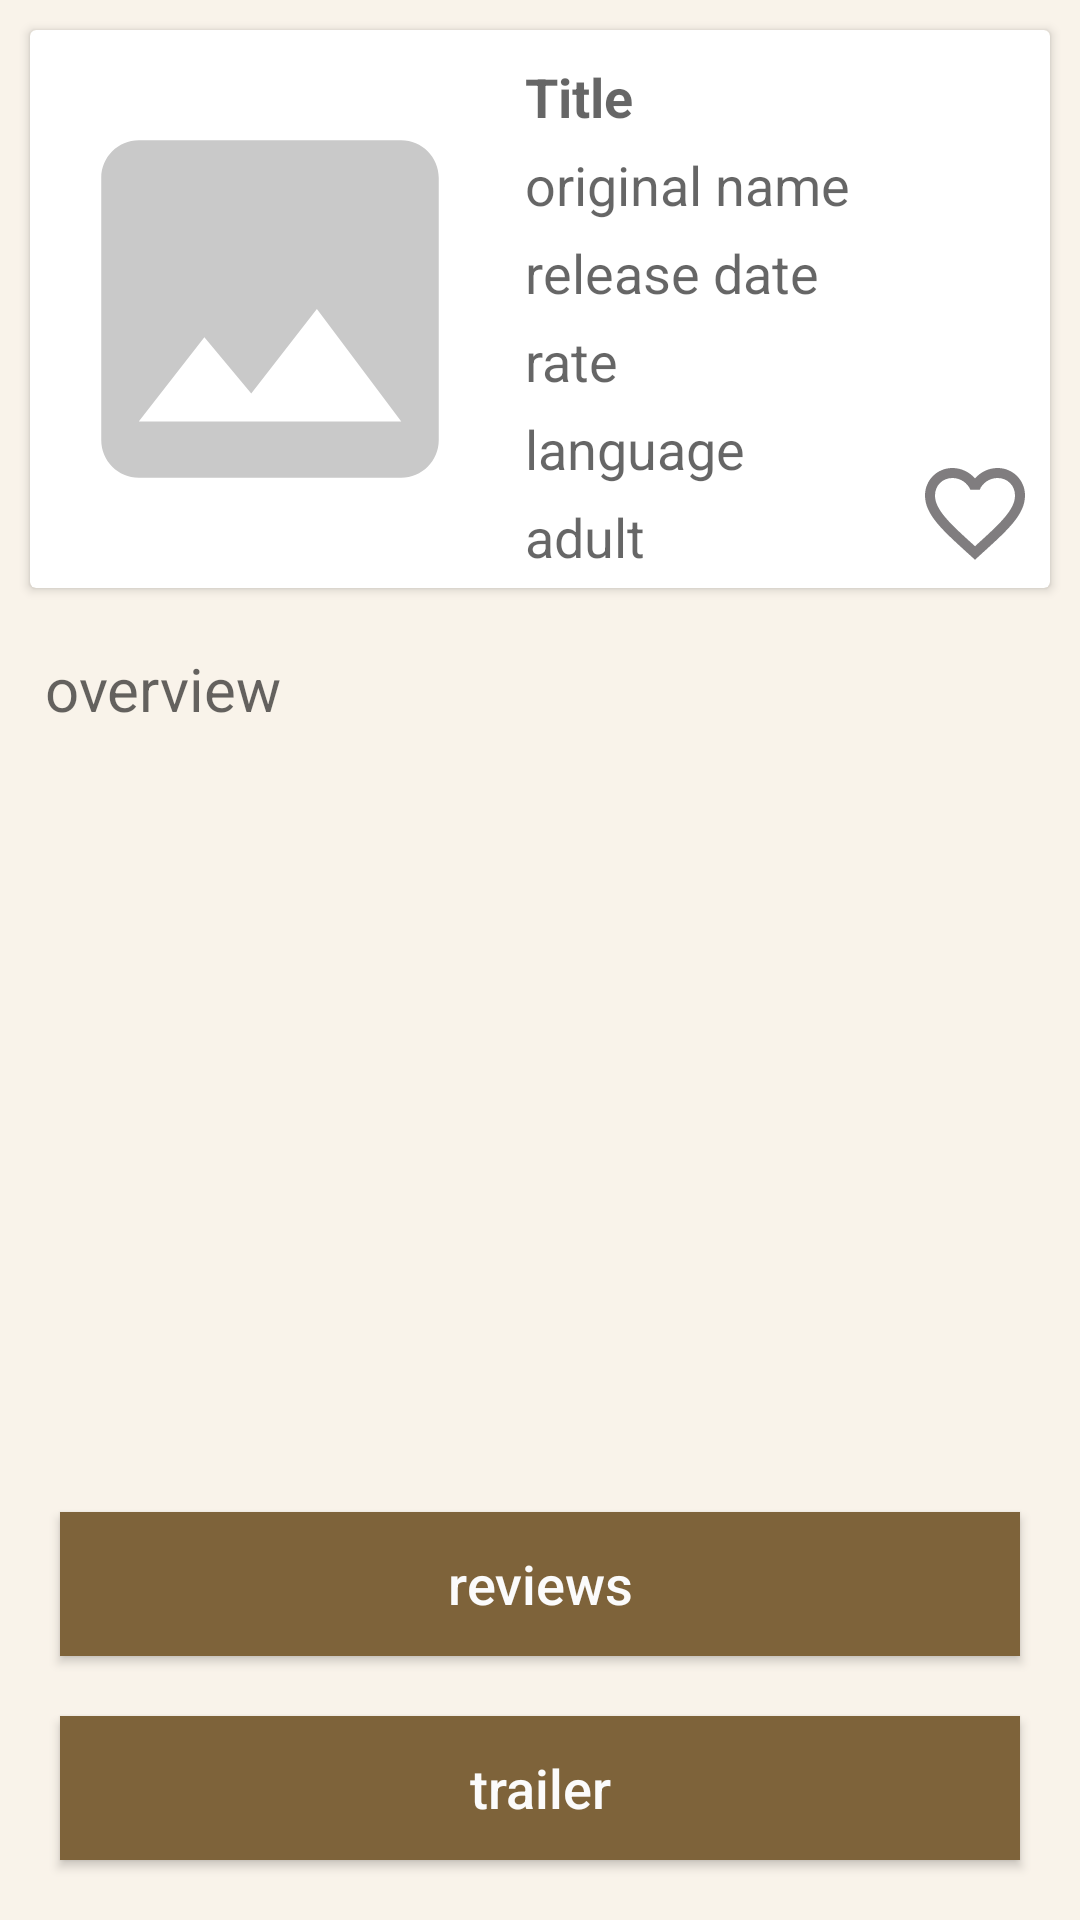

Icons on this 1080x1920 Android screen, each with the point to tap as (x,y):
unfavourite: (975,514)
